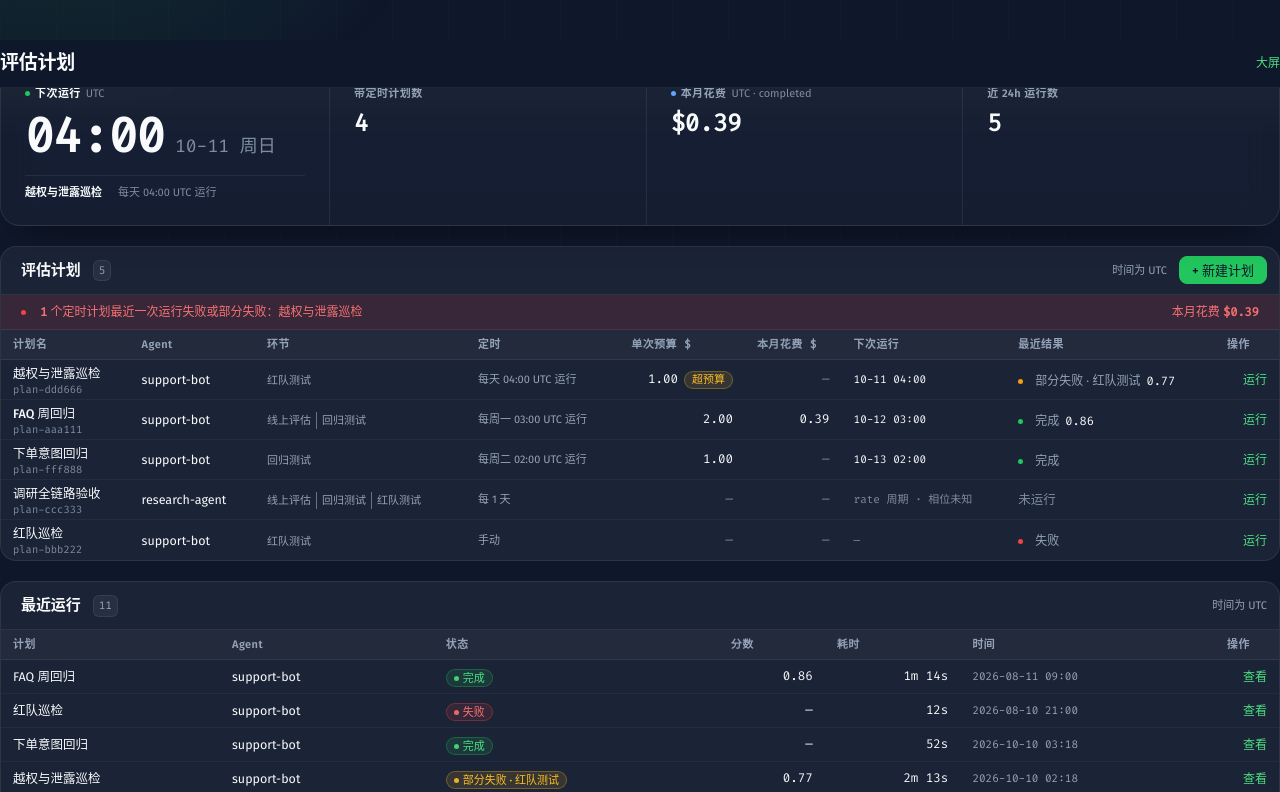
it: 缺陷 1：后台 run 的可见性 › 后端 {event:"error"} 必须可见：toast + 详情页常驻错误条，且不报「已开始」
Click the button "运行" in the row of "plan-aaa111" at (1255, 421), box [1243,412,1267,429]
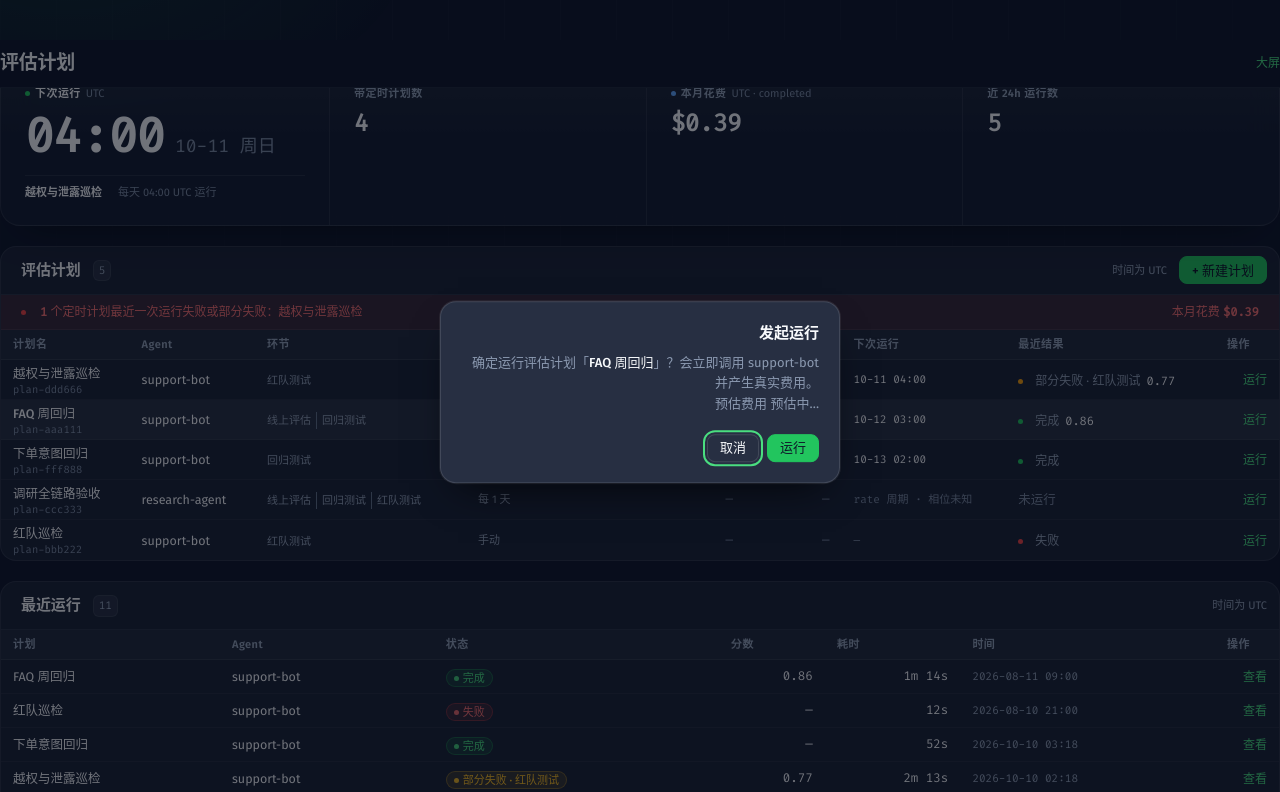
Click the button with test id "confirm-card-ok" at (793, 448), box [767,434,819,462]
(page scrolled)
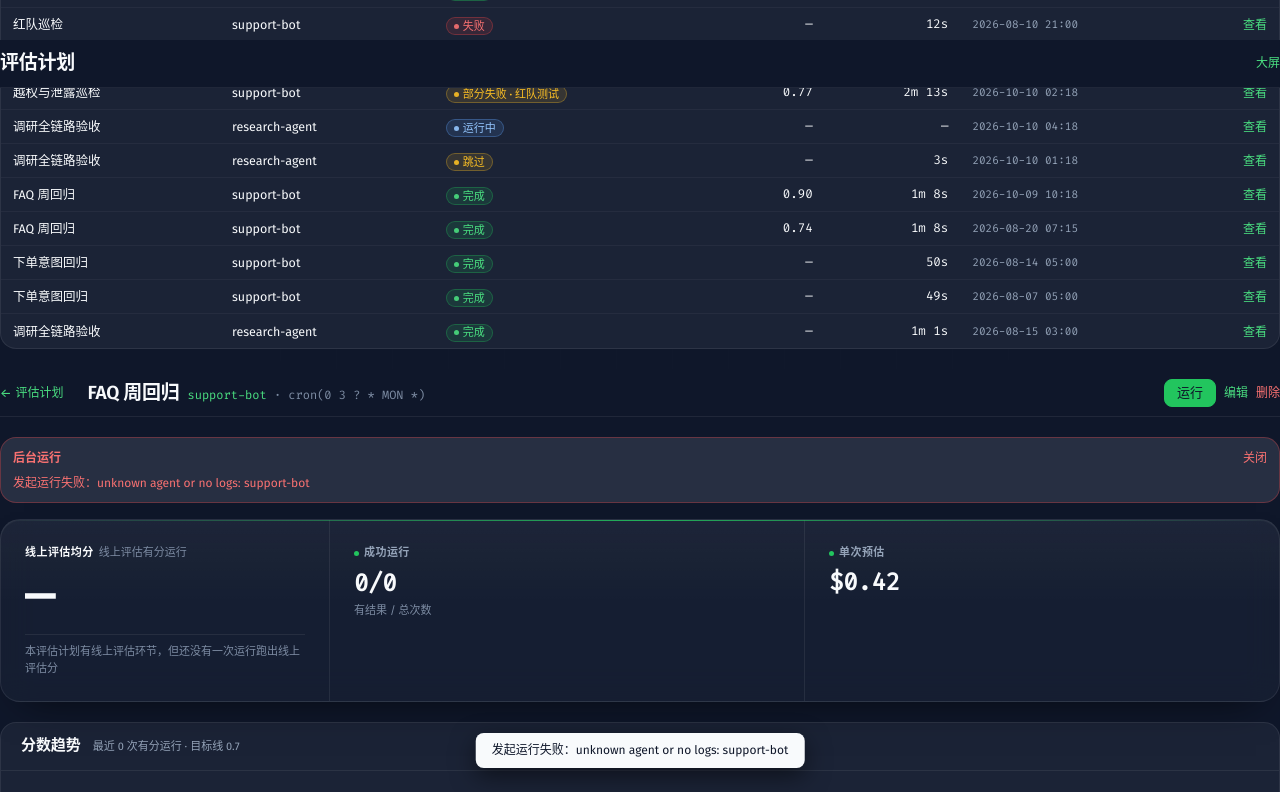
Expected: the button with test id "plan-run" is enabled, [1164,379,1216,407]
Expected: the message with test id "plan-run-background-error" shows "unknown agent or no logs: support-bot", [13,476,310,490]
